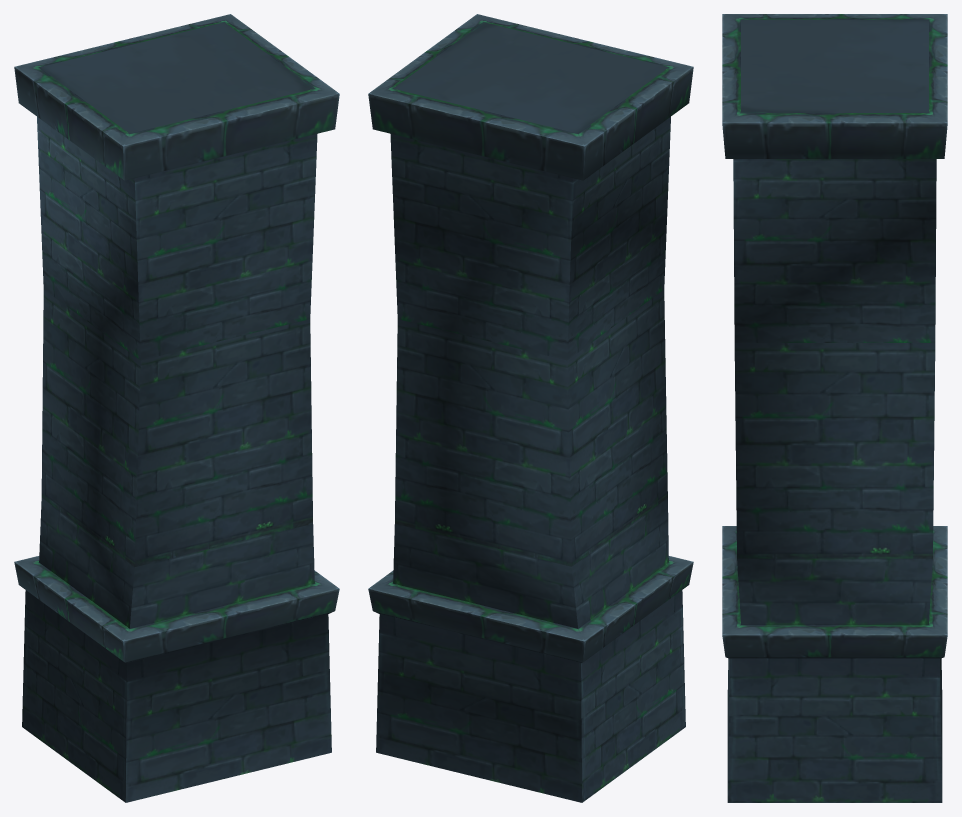
File: jfdx_weiqiang_01.FBX
The picture shows the model from 3 angles, left to right: view 1: azimuth 30°, elevation 25°; view 2: azimuth 150°, elevation 25°; view 3: azimuth 270°, elevation 25°; orthographic projection. The views are drawn at different scales.
Visible parts, largest first — view 1: jfdx_weiqiang_01; view 2: jfdx_weiqiang_01; view 3: jfdx_weiqiang_01.
Boxes of the visible parts, left/top/right/bottom form: jfdx_weiqiang_01: left=14, top=14, right=339, bottom=802; jfdx_weiqiang_01: left=368, top=14, right=693, bottom=802; jfdx_weiqiang_01: left=722, top=14, right=947, bottom=802.
Size of the model in its own units: 198 by 579 by 173.
